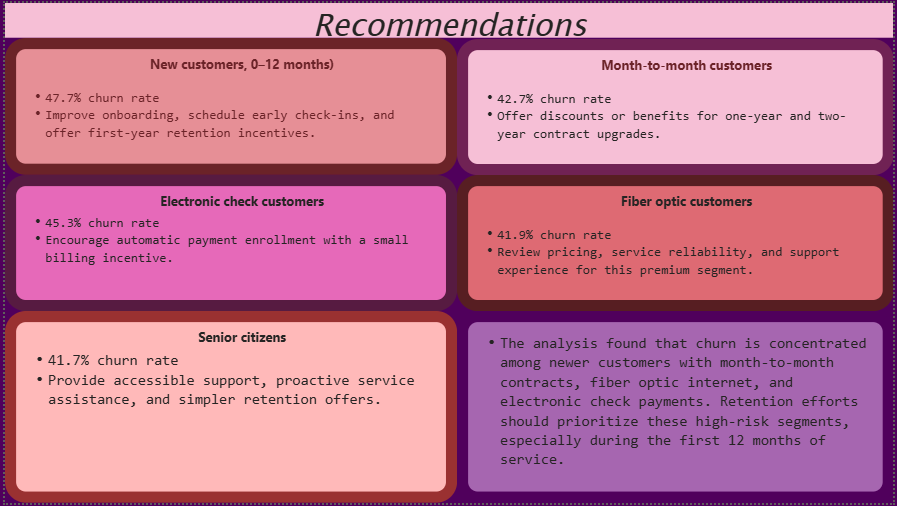

The dashboard page shown, as its layout file describes it:
{"tool":"powerbi","page":{"name":"Retention Strategy Recommendations","canvas":[1280,720],"ordinal":2},"visuals":[{"type":"textbox","title":"New customers, 0–12 months)","box":[0,50.4,650.9,197.3],"z":0},{"type":"textbox","title":"Recommendations","box":[0,0,1280.2,50.4],"z":1},{"type":"textbox","title":"Month-to-month customers","box":[650.9,51.8,629.3,195.8],"z":2},{"type":"textbox","title":"Electronic check customers","box":[0,247.7,650.9,195.8],"z":3},{"type":"textbox","title":"Fiber optic customers","box":[650.9,247.7,629.3,195.8],"z":4},{"type":"textbox","title":"Senior citizens","box":[0,443.5,650.9,276.5],"z":5},{"type":"textbox","box":[651,444,629,276],"z":6}]}

Visuals, with their boxes in screenshot pixels (x1, y1, x2, y2), scaled from the page's 1280x720 canvas onto the 897x506 screenshot:
"New customers, 0–12 months)" textbox: x1=0, y1=35, x2=456, y2=174
"Recommendations" textbox: x1=0, y1=0, x2=896, y2=35
"Month-to-month customers" textbox: x1=456, y1=36, x2=896, y2=174
"Electronic check customers" textbox: x1=0, y1=174, x2=456, y2=312
"Fiber optic customers" textbox: x1=456, y1=174, x2=896, y2=312
"Senior citizens" textbox: x1=0, y1=312, x2=456, y2=505
textbox: x1=456, y1=312, x2=896, y2=505
